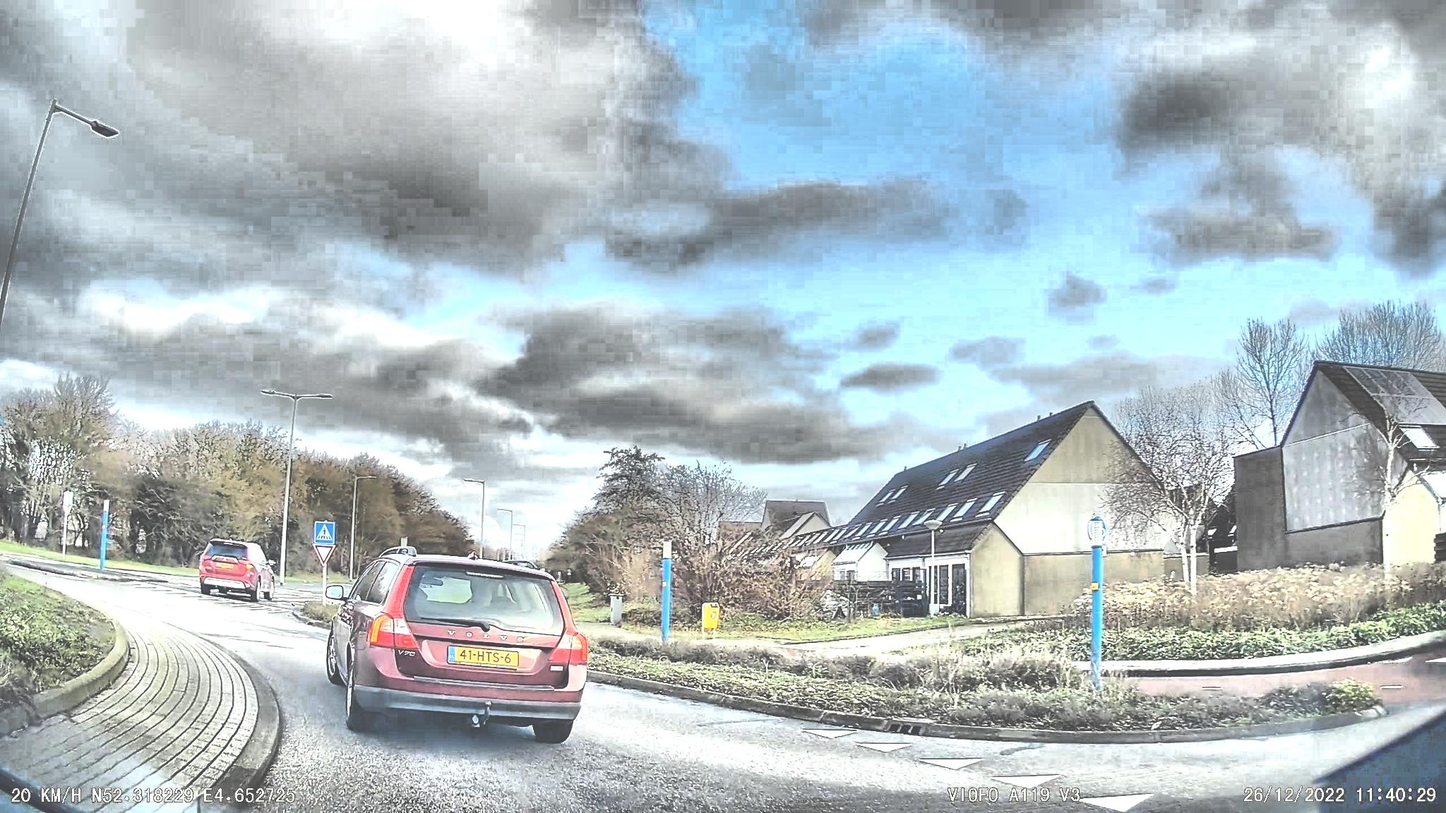Roads: (51, 581, 1446, 813)
